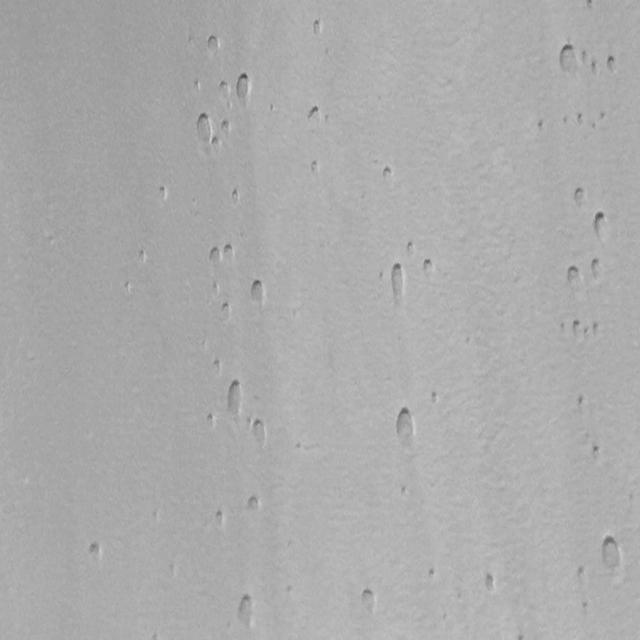pin holes: (596, 533, 625, 578), (391, 407, 419, 447), (385, 262, 410, 306), (234, 593, 259, 631), (556, 43, 582, 75), (194, 108, 214, 148), (225, 382, 246, 416), (246, 276, 268, 308), (592, 212, 614, 242), (234, 72, 254, 105), (248, 420, 268, 450), (358, 586, 378, 616), (566, 264, 585, 290), (589, 256, 607, 283), (569, 184, 588, 208), (481, 571, 499, 596), (86, 539, 104, 564), (244, 491, 262, 515), (304, 106, 323, 128), (572, 566, 590, 589), (206, 242, 222, 266), (218, 79, 234, 102), (421, 257, 436, 280), (214, 509, 230, 530), (576, 394, 592, 415), (219, 300, 234, 322), (578, 48, 590, 75), (572, 319, 586, 342), (309, 18, 325, 38), (203, 410, 219, 430), (380, 165, 396, 185), (606, 54, 621, 74), (157, 184, 172, 203), (206, 35, 220, 55), (590, 443, 604, 463), (404, 238, 418, 258), (221, 119, 235, 138), (224, 242, 237, 262), (230, 186, 242, 206), (308, 159, 322, 176), (428, 567, 442, 584), (212, 359, 225, 377), (136, 248, 149, 266), (285, 582, 299, 598), (590, 321, 602, 339), (430, 392, 443, 408), (580, 600, 592, 617), (210, 134, 222, 151), (537, 120, 549, 136), (557, 320, 569, 336), (212, 282, 224, 298), (194, 76, 204, 95), (582, 0, 597, 12), (399, 484, 411, 499), (589, 60, 600, 76), (292, 436, 303, 452), (576, 112, 587, 126), (123, 280, 134, 294), (598, 110, 608, 124), (269, 101, 279, 114), (591, 121, 597, 133), (562, 114, 568, 124)
